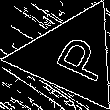P_NW: (37, 28, 106, 85)
